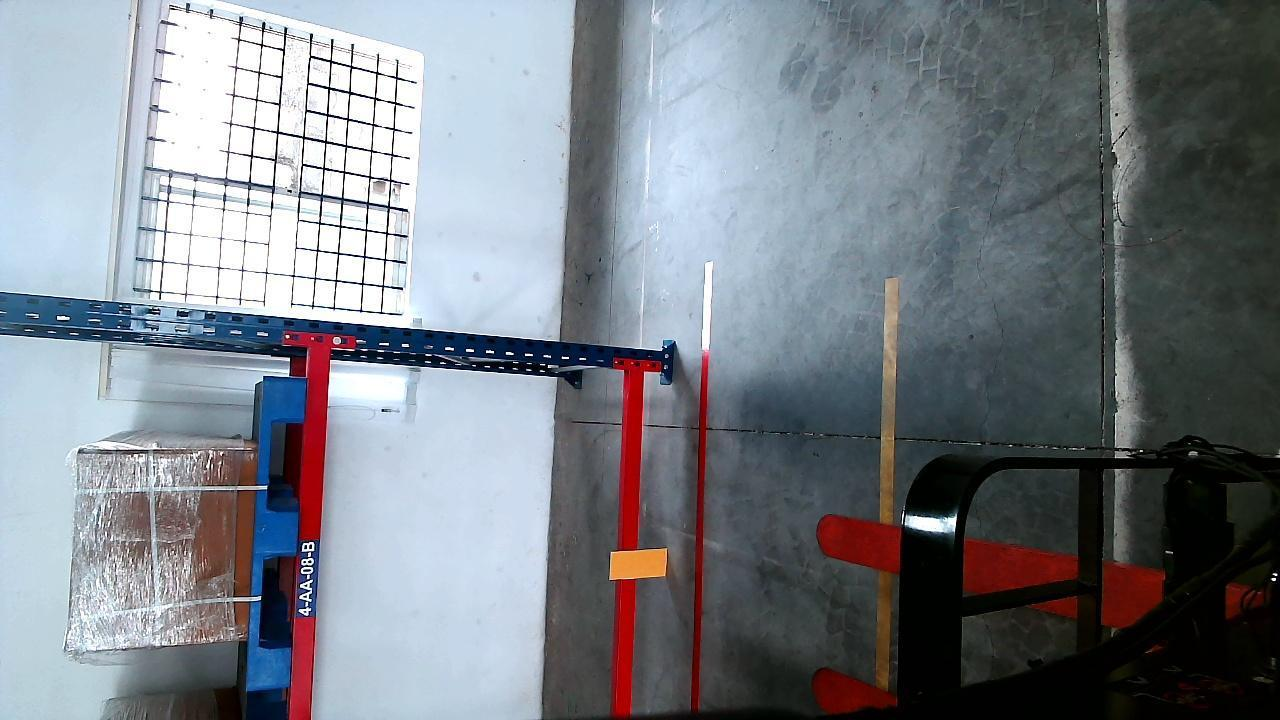h_rack: (289, 344, 333, 720), (618, 357, 646, 705)
orange_strip: (613, 548, 668, 579)
red_line: (684, 258, 718, 709)
small_pallet: (247, 374, 304, 700)
yellow_line: (878, 278, 897, 694)
